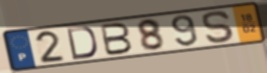2: (34, 29, 68, 66)
8: (137, 18, 166, 52)
9: (170, 14, 200, 47)
B: (100, 21, 135, 57)
D: (65, 25, 100, 61)
S: (201, 9, 237, 44)
